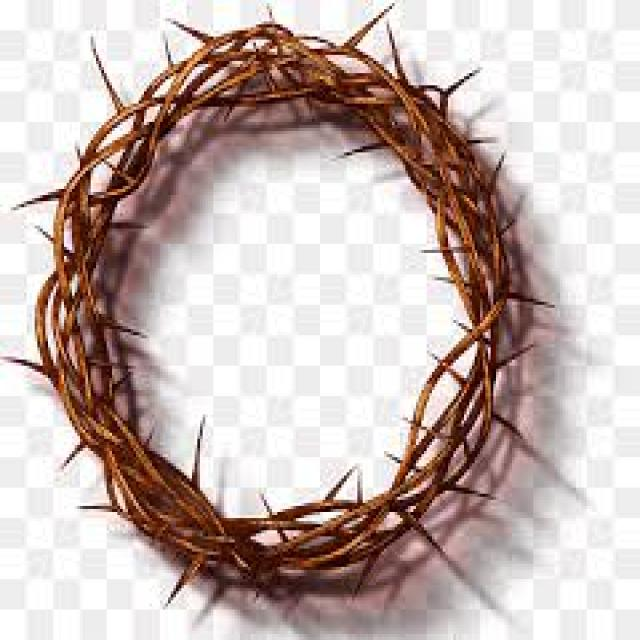crown: (6, 0, 576, 640)
